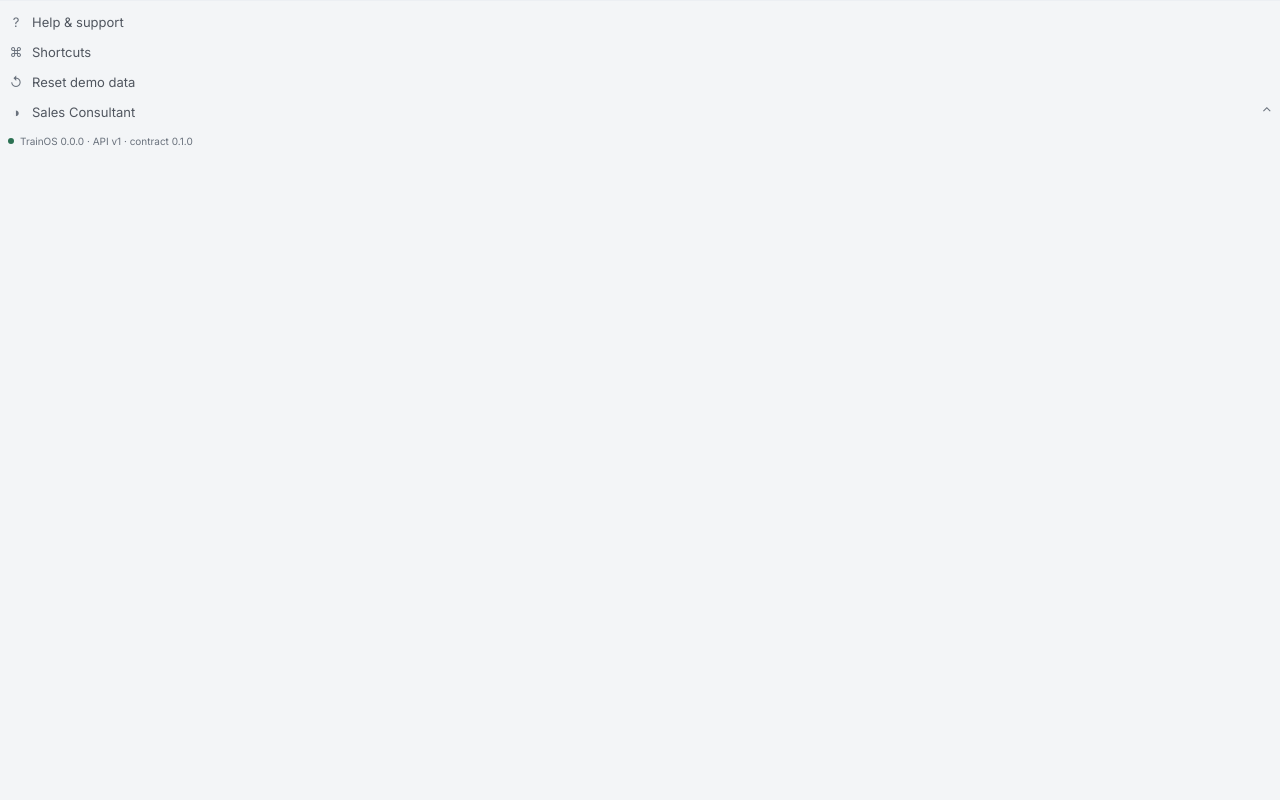
Test: SidebarFooter · Reset demo data › asks first, and Cancel forgets nothing
This screenshot has width=1280, height=800.
Click the button "↺ Reset demo data": (84, 82) 0,69 -> 1279,97
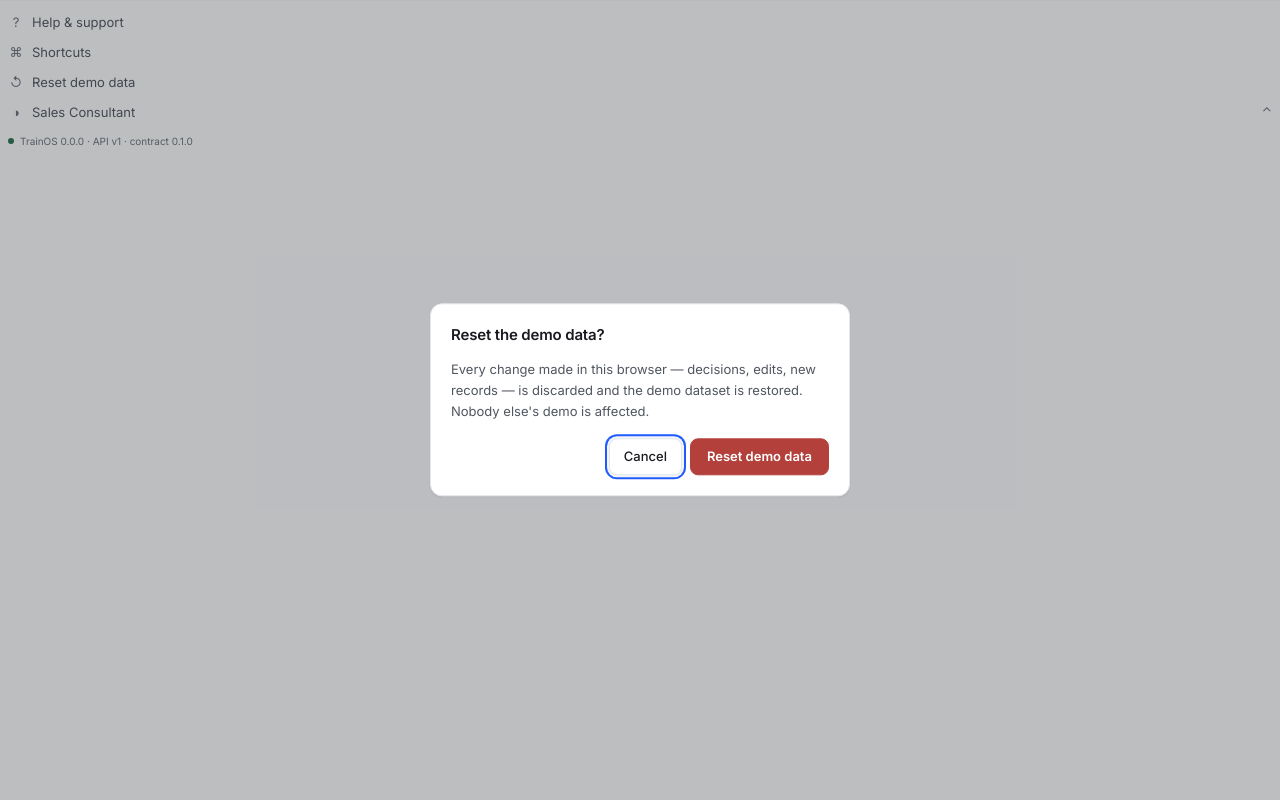
Now the dialog "Reset the demo data?" shows "Every change made in this browser", box 451,361 -> 816,419
Click the button "Cancel": (645, 457) 609,438 -> 682,476
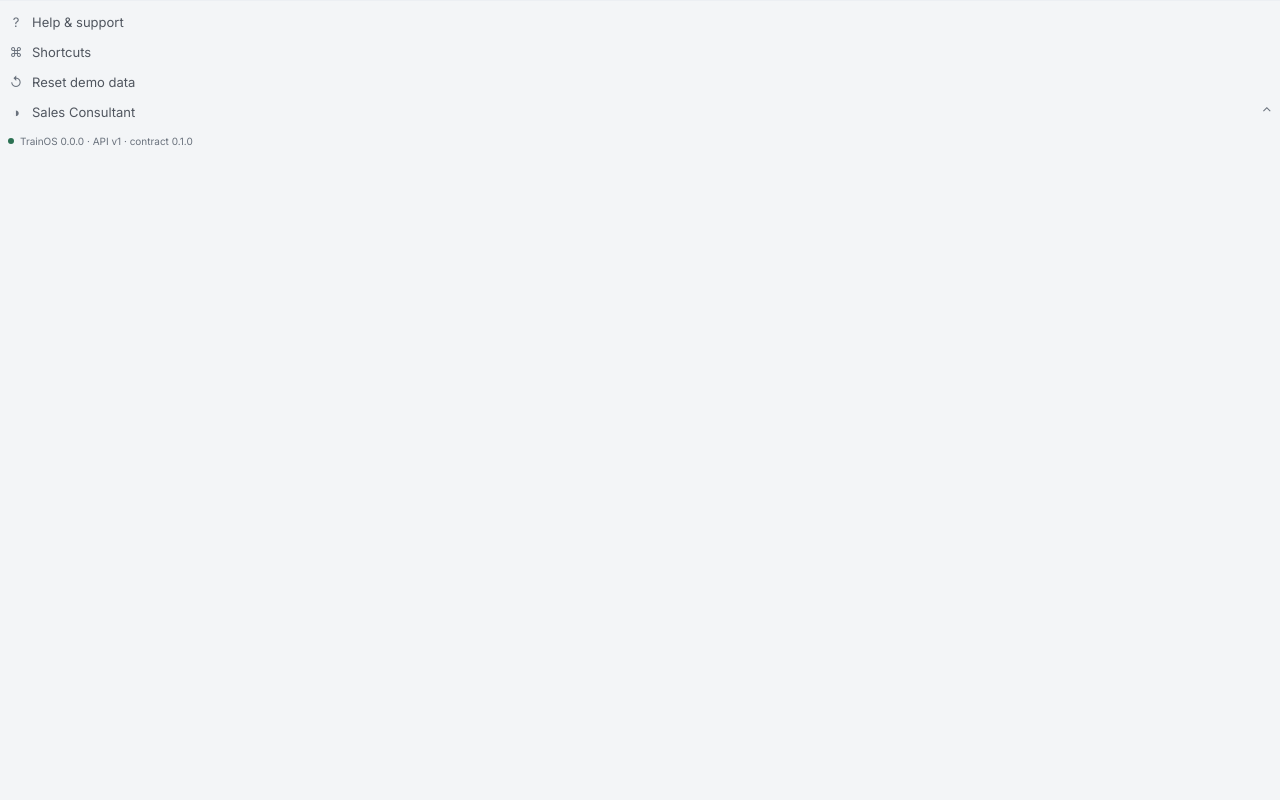
Now the dialog is gone
